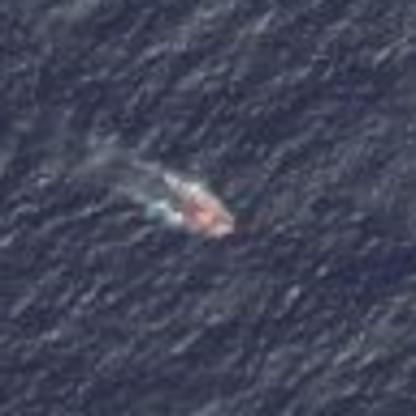ship: (158, 178, 241, 244)
